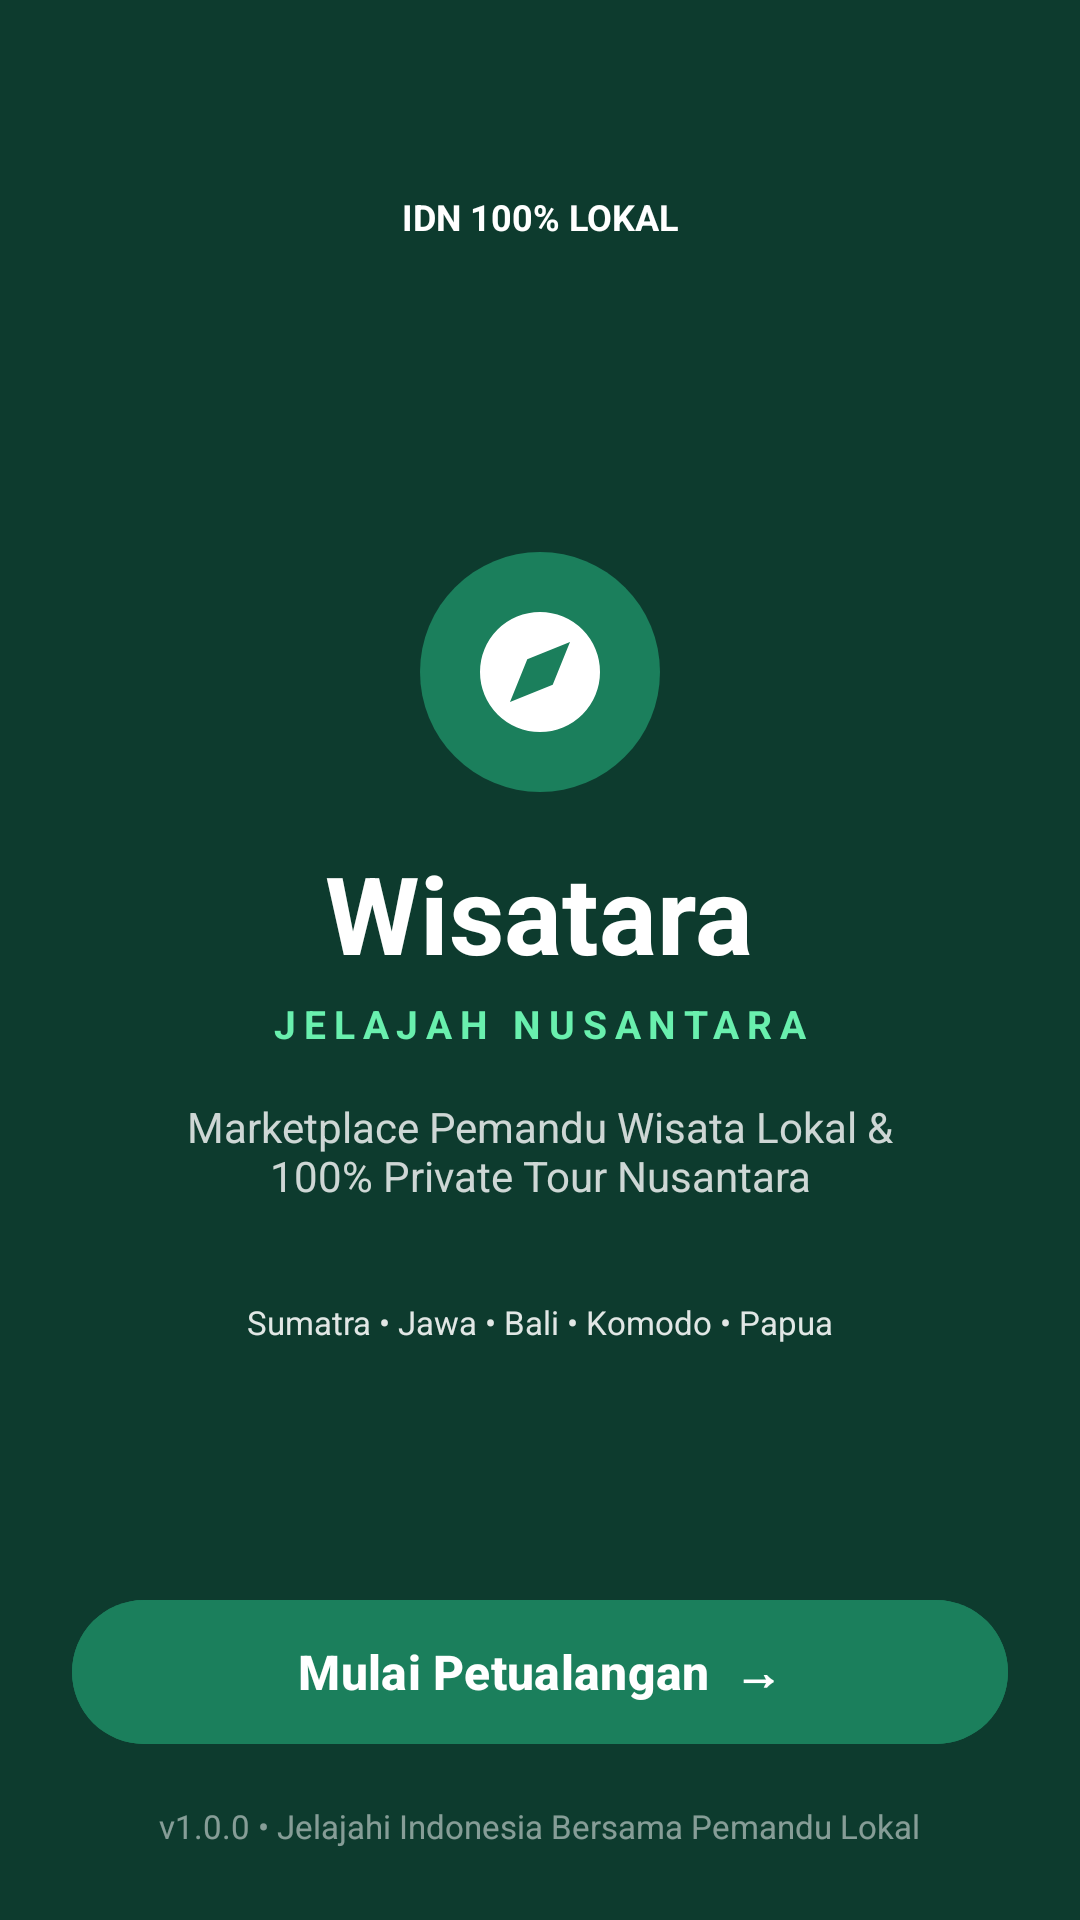

Icon bounding boxes for this 1080px×1920px phone screenshot, format rect(x1, y1, x2, y2):
compass: rect(420, 552, 660, 792)
